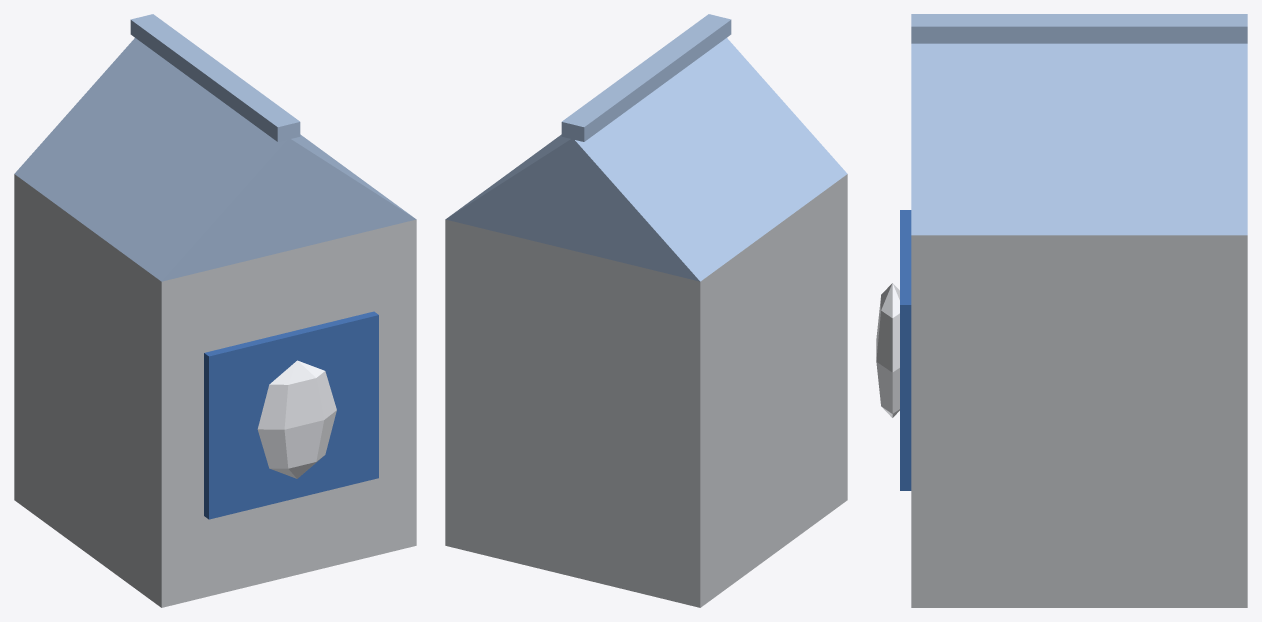
Rendered from Food_Milk.obj.
The picture shows the model from 3 angles, left to right: view 1: azimuth 30°, elevation 25°; view 2: azimuth 150°, elevation 25°; view 3: azimuth 270°, elevation 25°; orthographic projection. The views are drawn at different scales.
Bounding box in the file's own units: 0.9 × 1.52 × 0.9933.
